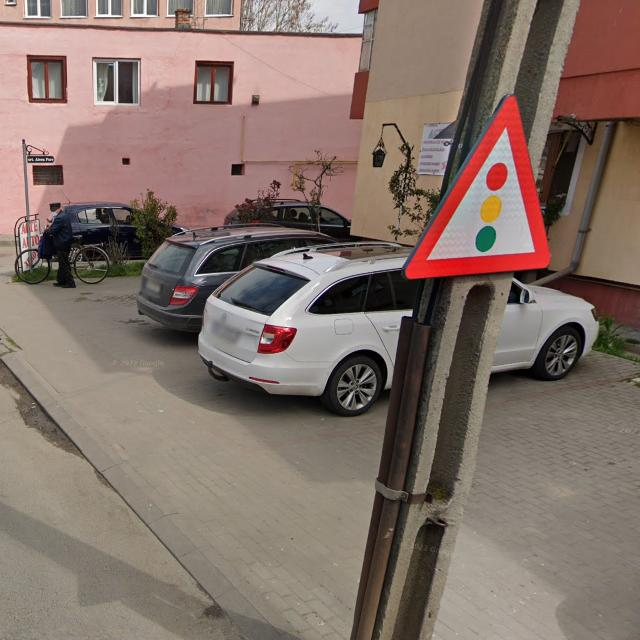warn_traffic_light: (402, 90, 552, 278)
